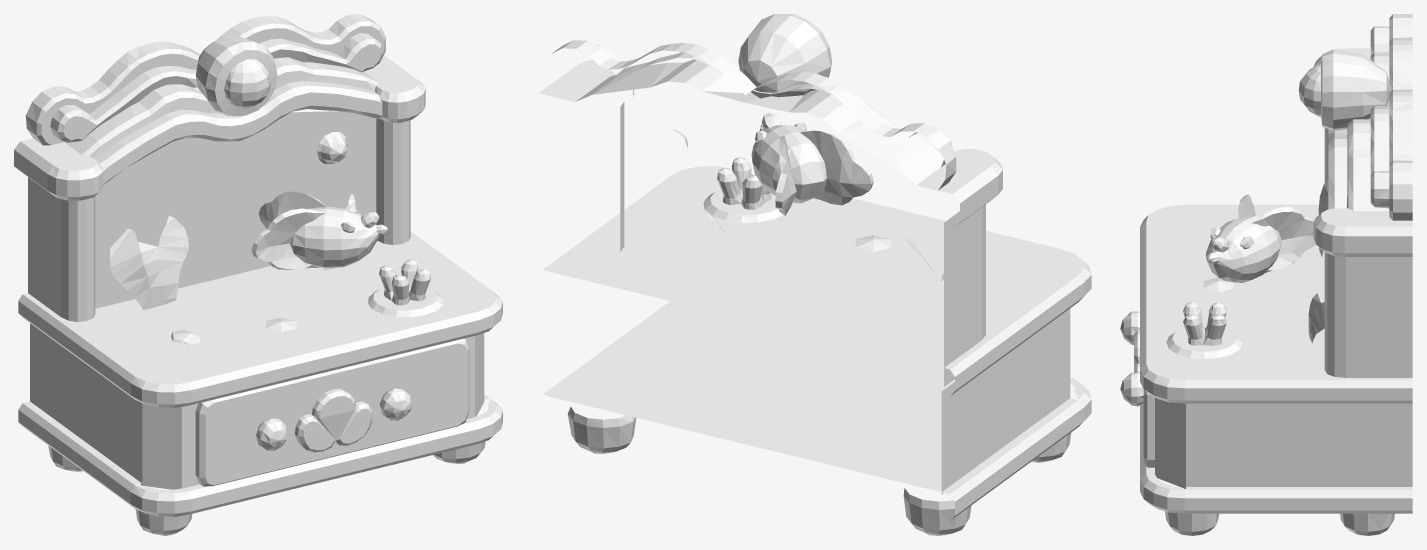
Rendered from g_s_tank.glb.
The picture shows the model from 3 angles, left to right: view 1: azimuth 30°, elevation 25°; view 2: azimuth 150°, elevation 25°; view 3: azimuth 270°, elevation 25°; orthographic projection. The views are drawn at different scales.
Visible parts, largest first — view 1: geometry_0; view 2: geometry_0; view 3: geometry_0.
Part boxes in pixels (left/top/right/bottom): geometry_0: left=14, top=14, right=502, bottom=535; geometry_0: left=539, top=14, right=1091, bottom=535; geometry_0: left=1120, top=14, right=1412, bottom=535.
Size of the model in its own units: 0.1719 by 0.1763 by 0.1152.
Materials: 1 (1 with a texture image).
